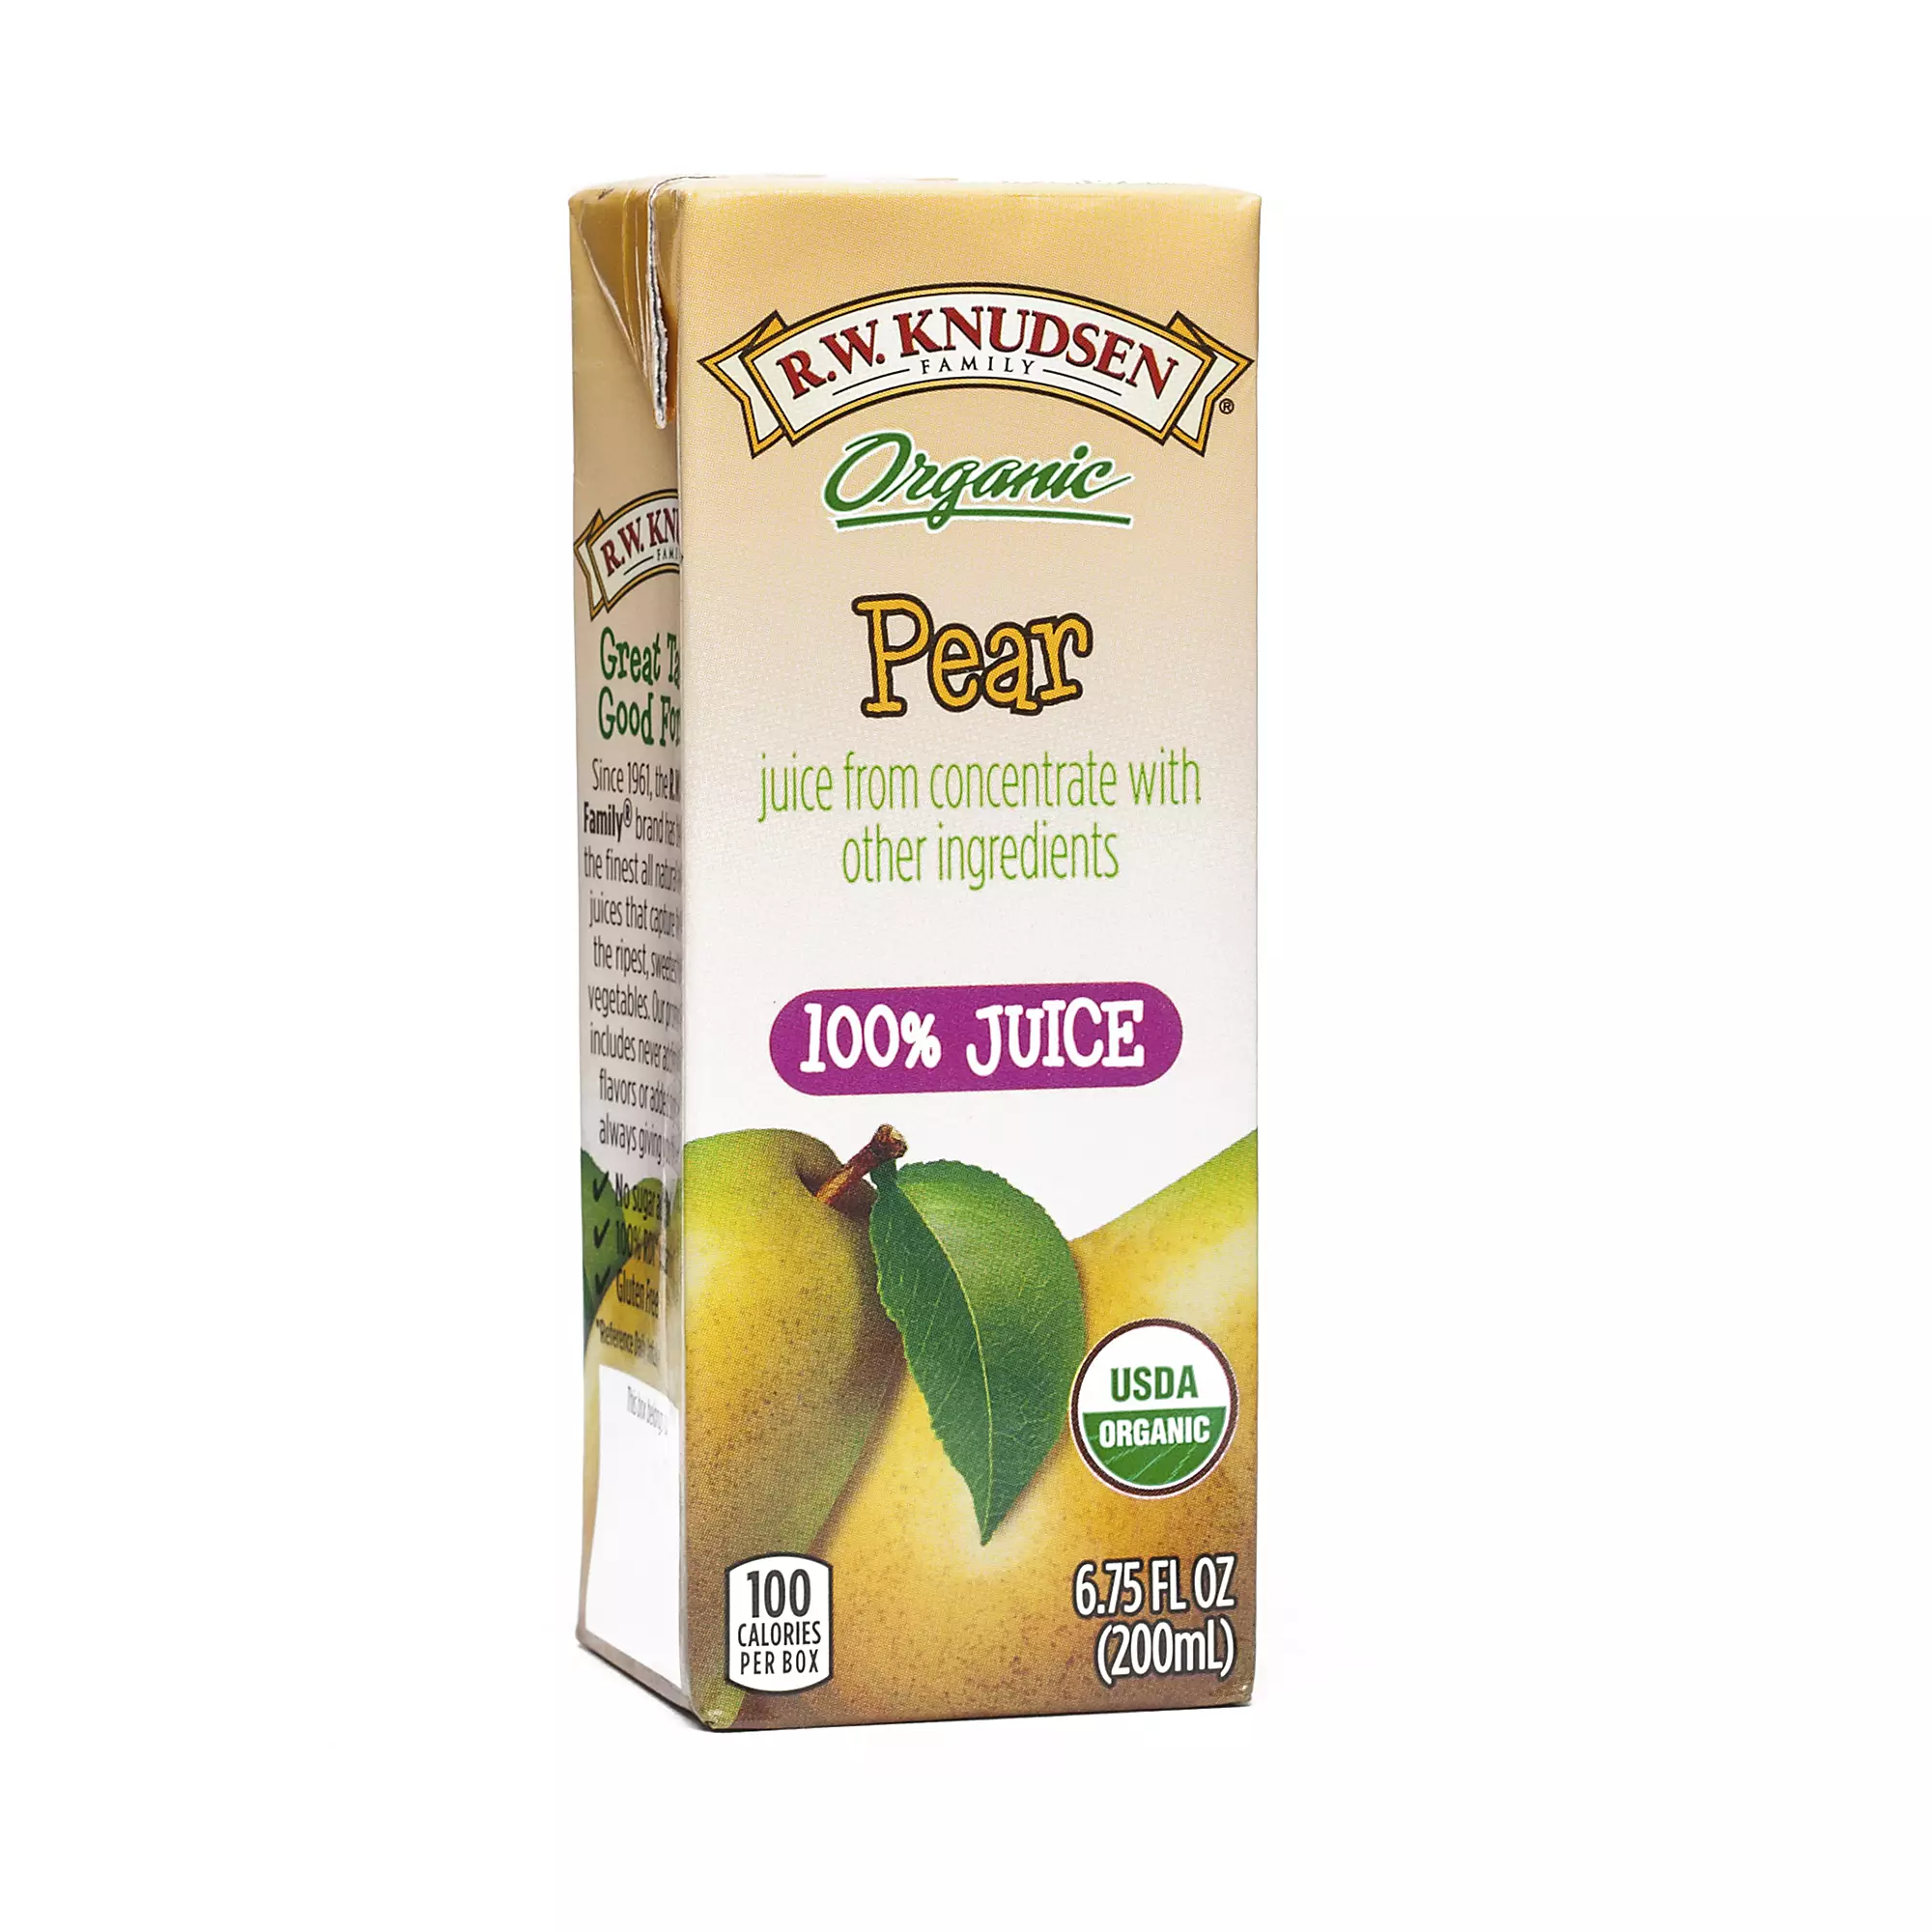Juice_Box: (575, 184, 1267, 1730)
